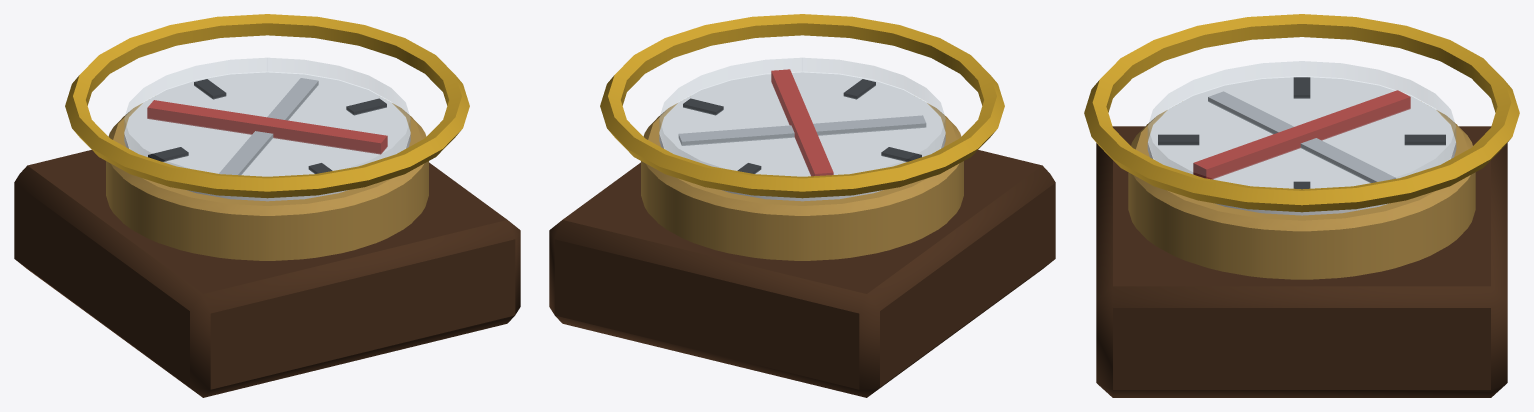
The model's file is instrument_nav_compass.glb.
The picture shows the model from 3 angles, left to right: view 1: azimuth 30°, elevation 25°; view 2: azimuth 150°, elevation 25°; view 3: azimuth 270°, elevation 25°; orthographic projection. The views are drawn at different scales.
Parts seen in each view (by area): view 1: instrument_nav_compass; view 2: instrument_nav_compass; view 3: instrument_nav_compass.
Part boxes in pixels (x1=…): instrument_nav_compass: x1=14, y1=14, x2=520, y2=397; instrument_nav_compass: x1=549, y1=14, x2=1055, y2=397; instrument_nav_compass: x1=1084, y1=14, x2=1519, y2=397.
Bounding box in the file's own units: 0.212 × 0.1157 × 0.212.
